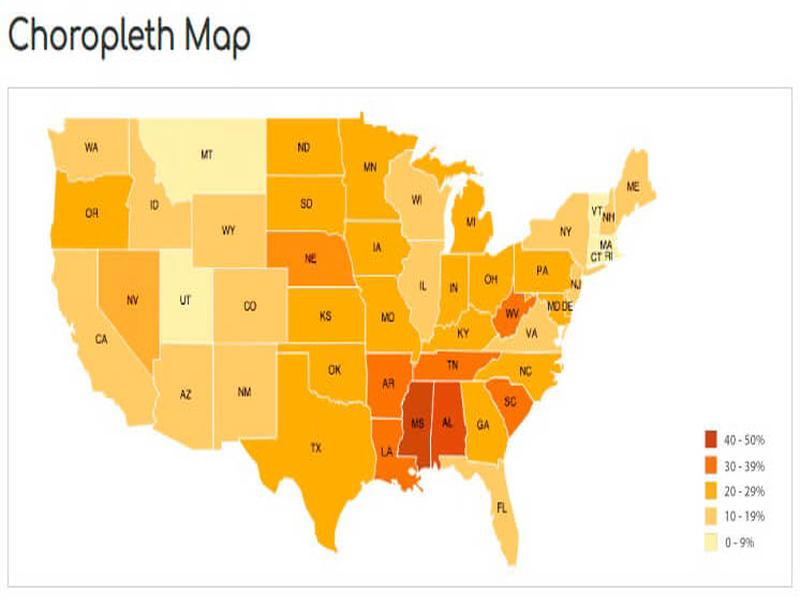legend: (701, 425, 771, 556)
